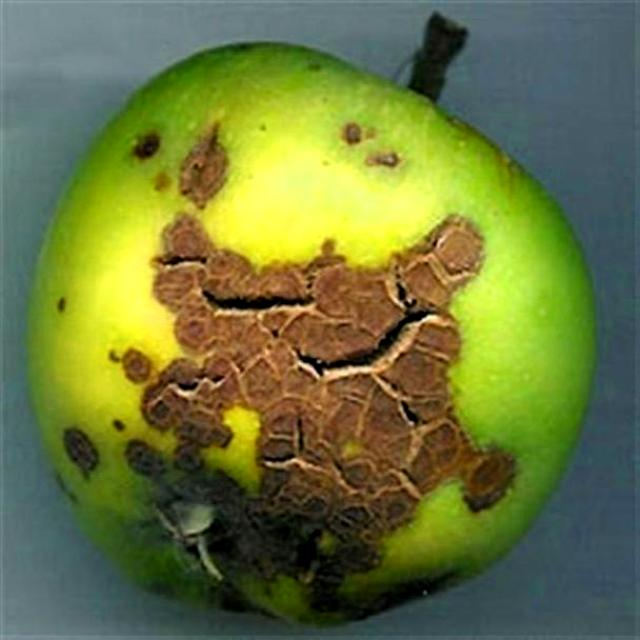SCAB: (40, 42, 599, 626)
